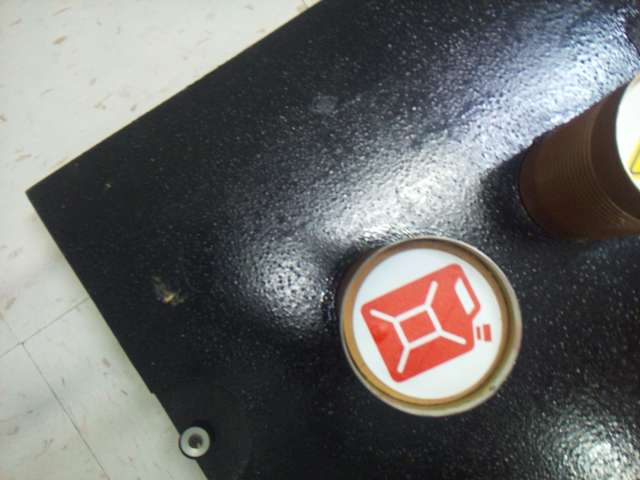gasoline: (352, 247, 504, 402)
toxic_fluid: (617, 81, 639, 193)
